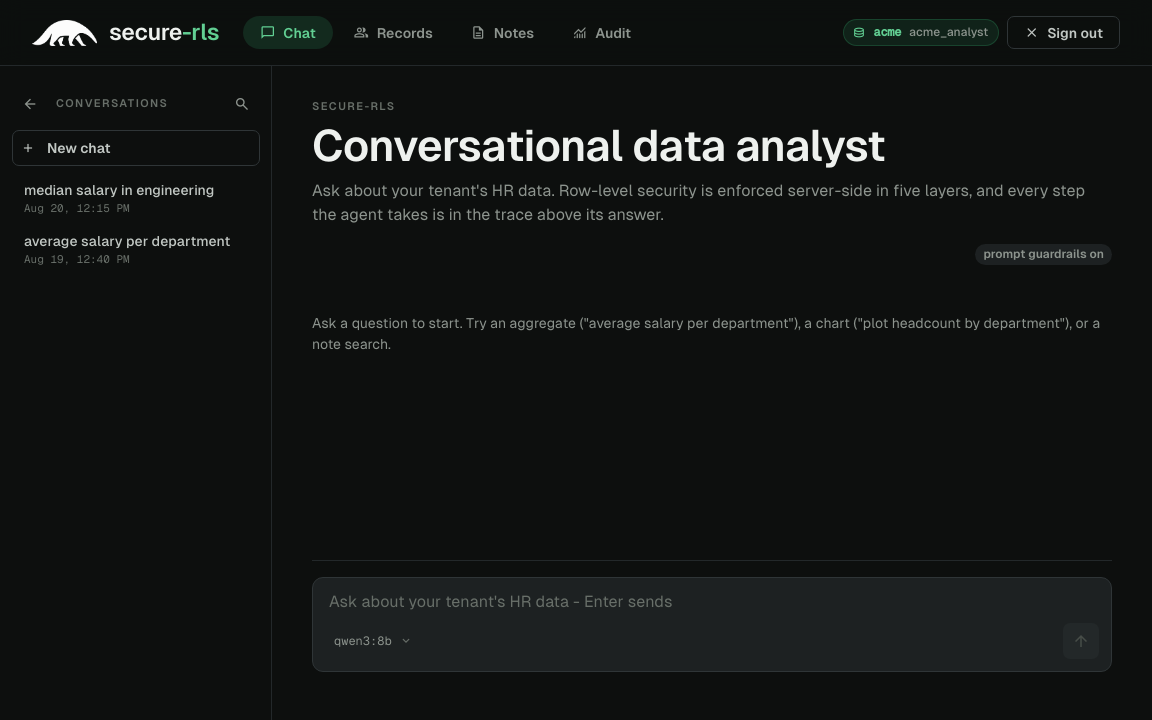
Test: the conversation rail › replays the exchanges of the thread it opens and highlights it
The width and height of the screenshot is (1152, 720).
Expected: the dropdown shows "qwen3:8b", x1=325 y1=628 x2=421 y2=654
Click the text "average salary per department" at (127, 242), box x1=24 y1=233 x2=230 y2=250
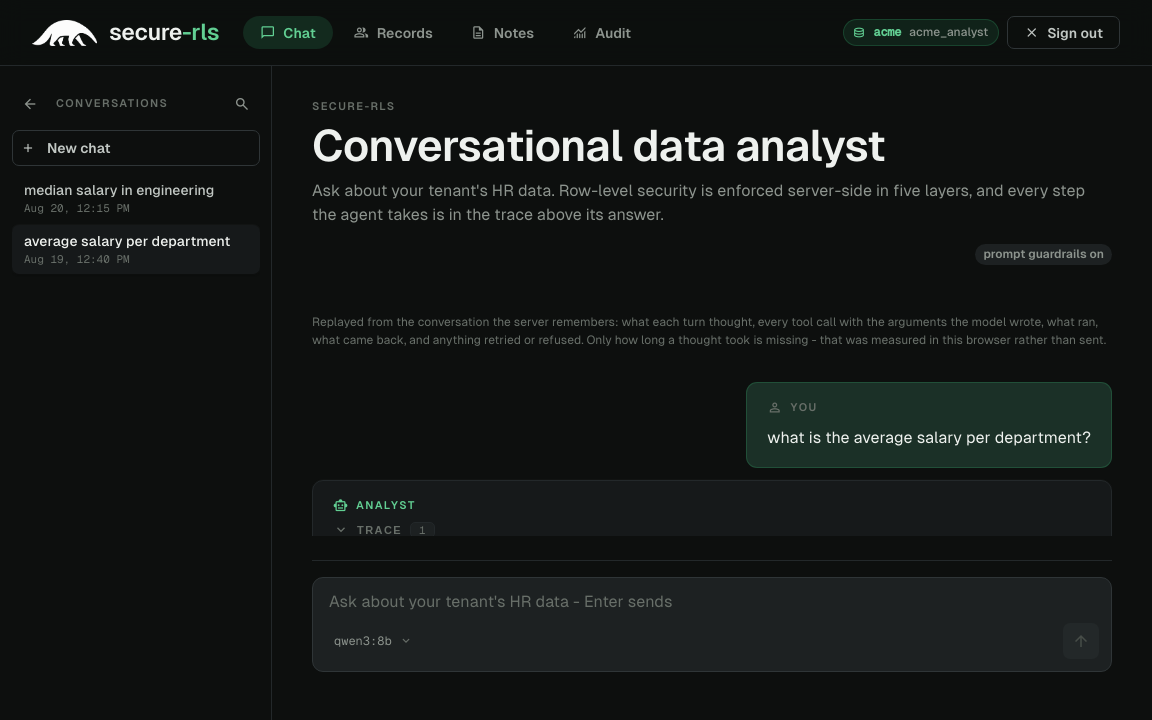
Expected: the text "Ask a question to start" is gone
